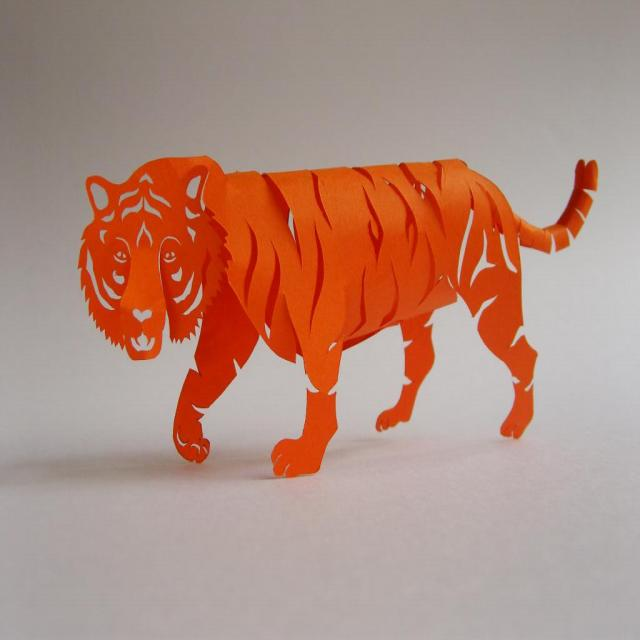Tiger: (74, 156, 596, 473)
